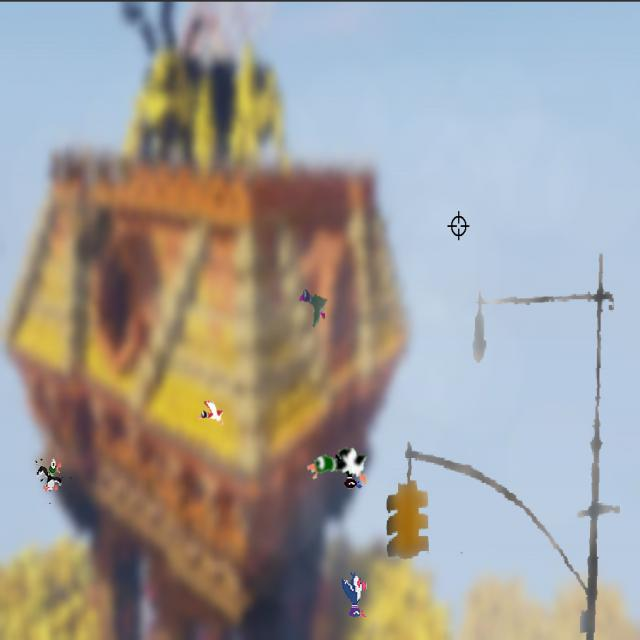duck: (301, 439, 371, 481), (294, 279, 333, 329), (339, 569, 373, 621), (196, 391, 226, 429)
falling_duck: (36, 450, 65, 500)
